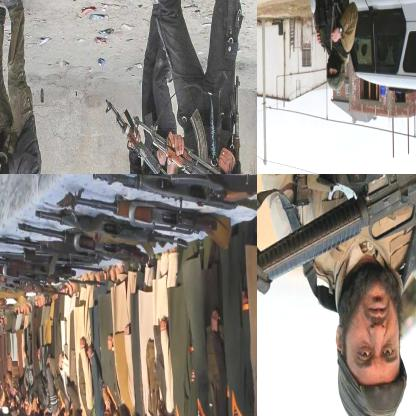rifle: (257, 174, 415, 335), (74, 190, 235, 252), (131, 107, 241, 173), (90, 174, 256, 216), (34, 207, 193, 250), (104, 97, 167, 173), (16, 220, 144, 257), (319, 0, 346, 26)
